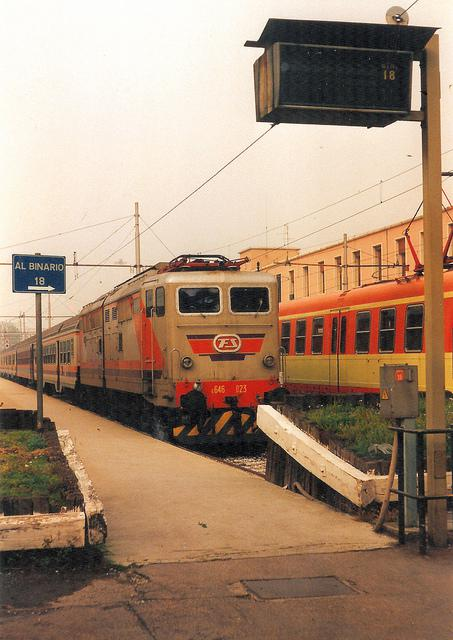Train: (0, 259, 285, 455), (284, 268, 453, 401)
